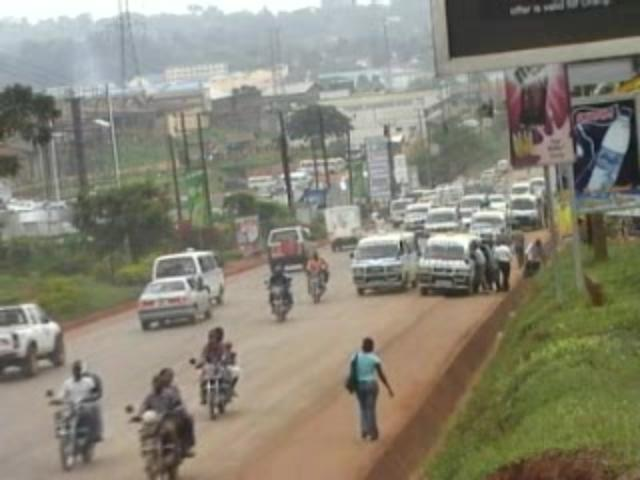car: (0, 303, 65, 377), (138, 276, 213, 329)
motorcycle: (123, 370, 194, 480), (49, 366, 101, 466), (348, 336, 395, 441), (197, 329, 240, 420), (265, 264, 293, 318), (306, 251, 329, 298), (524, 237, 546, 277)
truck: (324, 201, 364, 253)
van: (417, 233, 489, 296), (152, 249, 224, 306), (349, 230, 411, 290), (266, 226, 316, 274), (468, 210, 507, 242), (508, 194, 541, 230), (423, 206, 460, 235), (457, 194, 487, 224), (404, 202, 431, 231), (389, 197, 413, 224)
